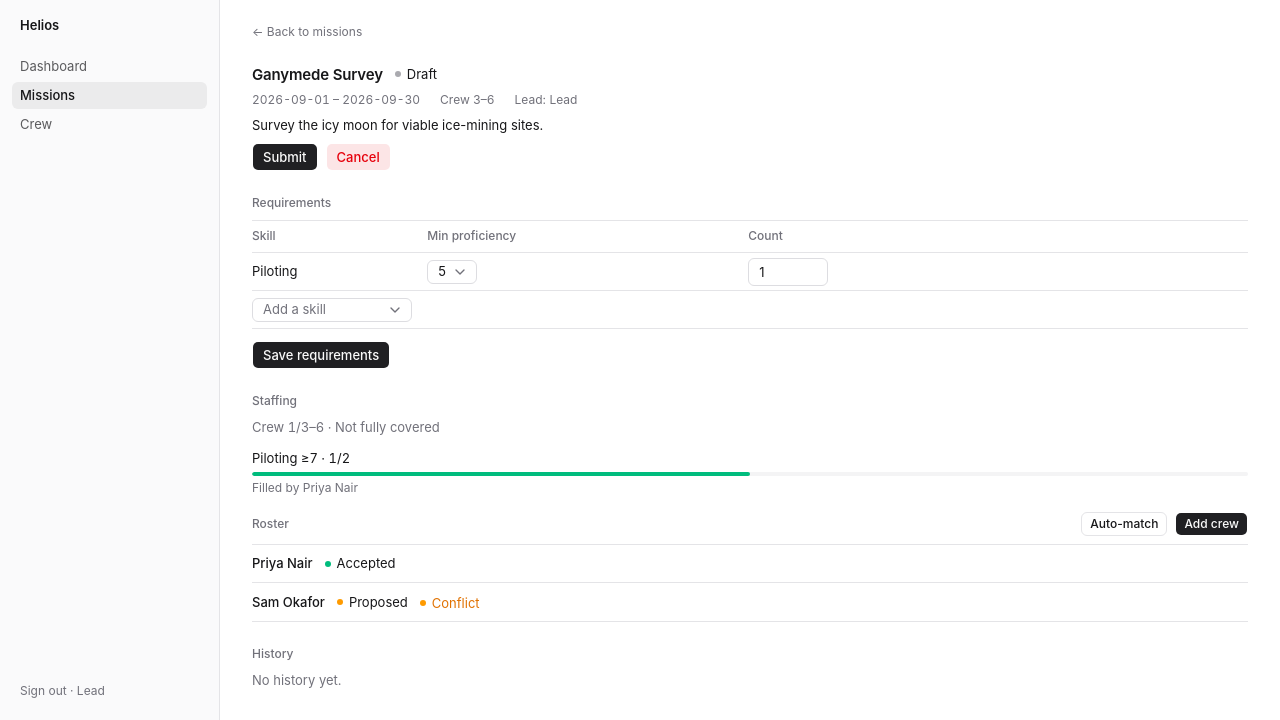
Test: staffing panel › shows the soft conflict's mission name inside the conflict popover
Check: the text "Piloting ≥7 · 1/2" is shown, box [252, 450, 350, 466]
Click the button "Conflict".
click(450, 602)  # box [420, 592, 480, 612]
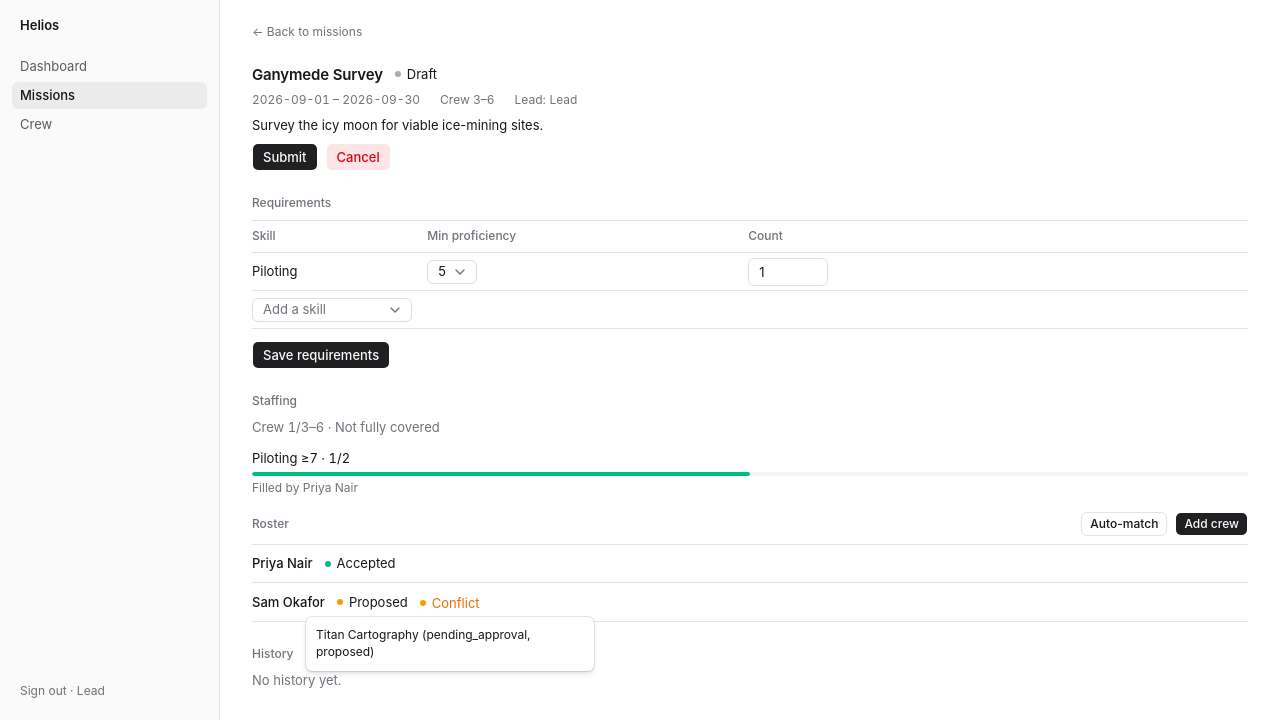
Check: the list item "Titan Cartography (pending_approval, proposed)" is shown, box [316, 627, 531, 659]
